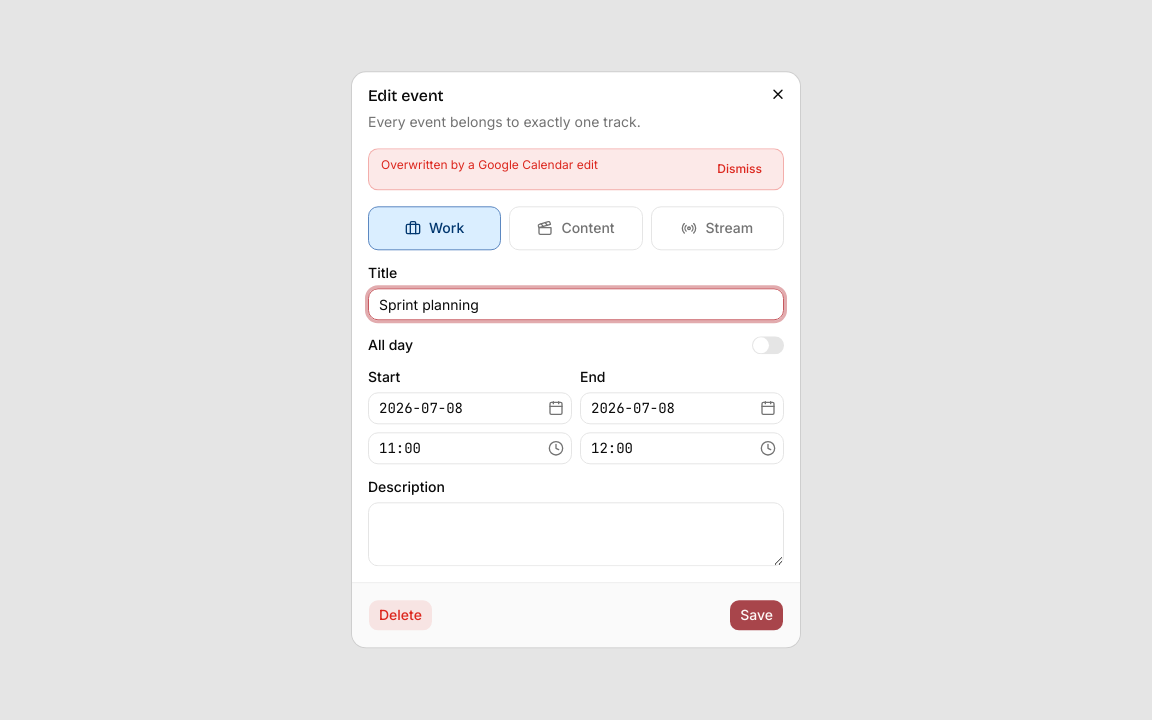
Test: EventEditor — edit mode › shows a dismissible conflict note when the event's sync link has one
Expected: the text "Overwritten by a Google Calendar edit" is shown, [381, 157, 598, 174]
Click the button "Dismiss".
click(740, 169)  # box [708, 157, 771, 181]
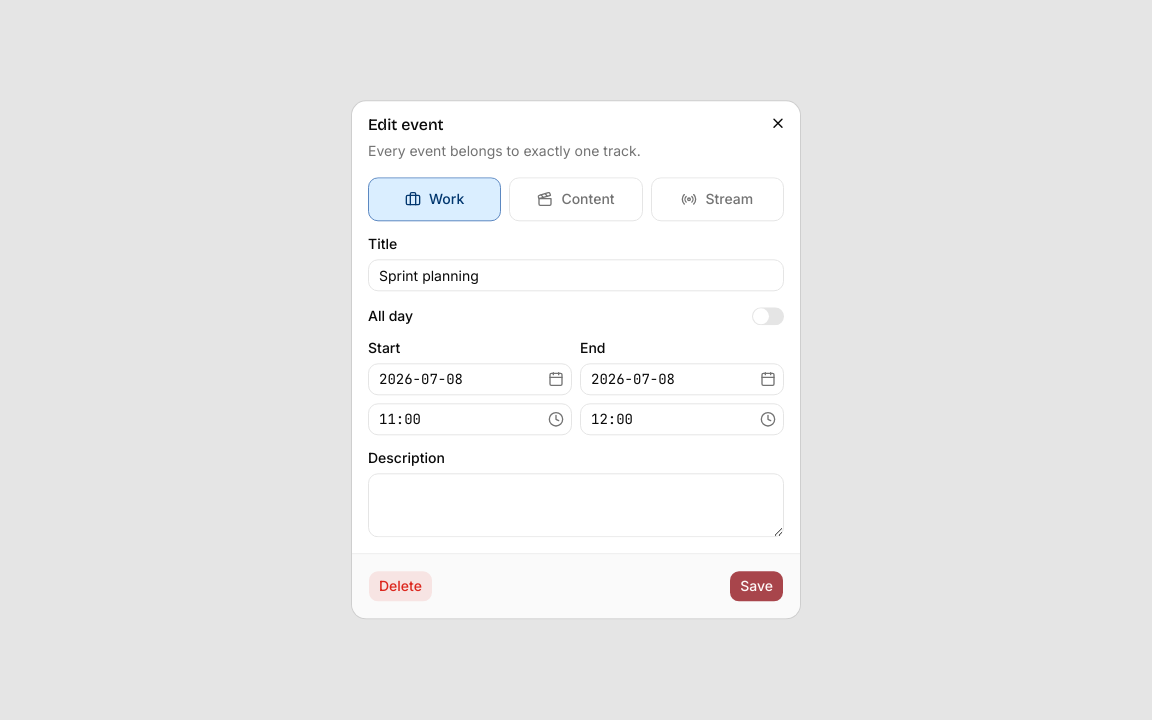
Result: the text "Overwritten by a Google Calendar edit" is gone
